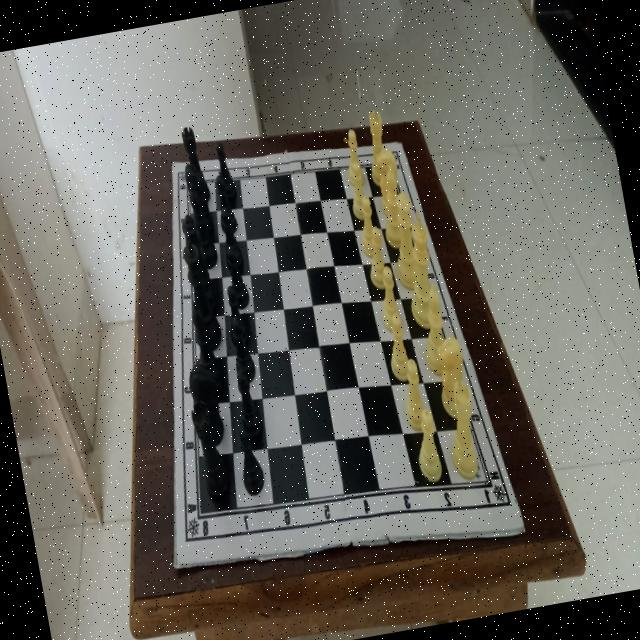corners: (166, 546, 186, 576), (164, 152, 184, 176), (515, 513, 533, 538), (391, 130, 408, 156)
